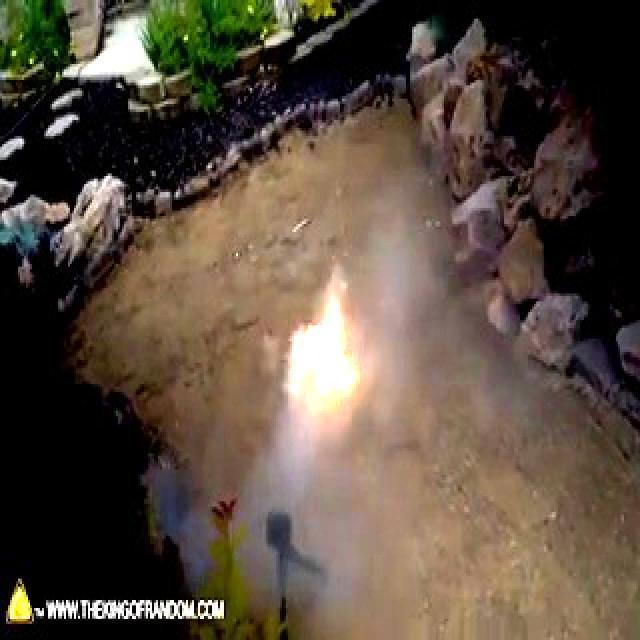Fire: (296, 312, 350, 390)
Smoke: (350, 158, 600, 570), (196, 397, 459, 625)
